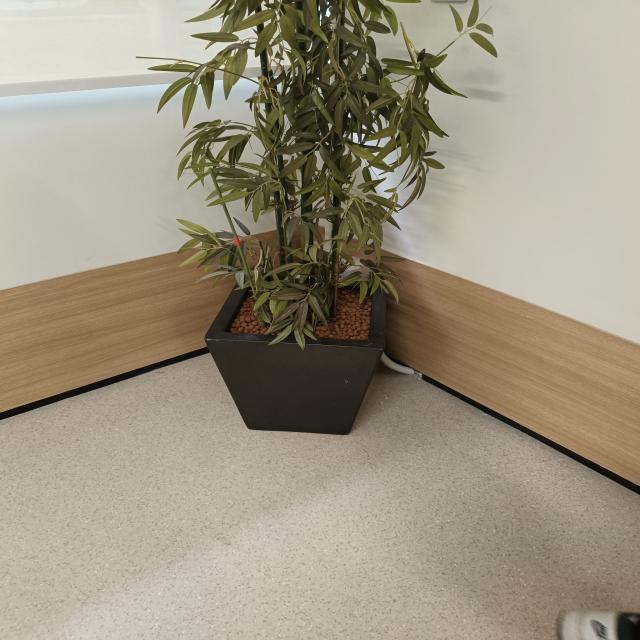Pot: (203, 275, 385, 436)
